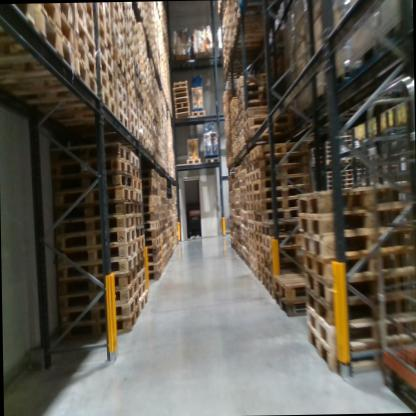pallet: (304, 303, 416, 359), (304, 319, 409, 378), (0, 6, 80, 80), (292, 175, 410, 222), (299, 219, 415, 264), (302, 264, 416, 309), (300, 239, 416, 283), (301, 279, 416, 321), (1, 55, 99, 103), (296, 208, 414, 233), (42, 87, 116, 123), (62, 281, 138, 313), (48, 186, 133, 210), (58, 268, 139, 292), (60, 254, 140, 278), (53, 214, 135, 237), (50, 140, 131, 163), (61, 309, 140, 332), (48, 154, 131, 174), (58, 300, 141, 320), (59, 240, 137, 261), (276, 264, 316, 303), (33, 6, 74, 43), (51, 169, 133, 187), (54, 225, 136, 243), (252, 148, 312, 169), (252, 170, 310, 190), (275, 292, 319, 318), (241, 110, 293, 132), (52, 202, 134, 215), (0, 6, 39, 33), (249, 163, 310, 180), (241, 102, 288, 124), (249, 142, 312, 158), (240, 121, 295, 137), (74, 22, 96, 61), (77, 39, 98, 79), (261, 217, 303, 237), (237, 89, 270, 113), (236, 79, 267, 104), (261, 257, 301, 276), (235, 72, 268, 95), (262, 242, 308, 258), (75, 6, 94, 42), (254, 199, 298, 214), (52, 2, 78, 26), (96, 67, 115, 98), (261, 234, 308, 246), (96, 49, 113, 82), (254, 209, 303, 220), (110, 75, 129, 103), (98, 22, 113, 57), (94, 10, 112, 39), (98, 38, 113, 72), (111, 45, 126, 78), (252, 188, 298, 198), (112, 21, 125, 54), (113, 106, 129, 132), (114, 62, 126, 90), (115, 89, 126, 118), (77, 3, 94, 21), (327, 135, 355, 145), (129, 181, 143, 201), (134, 234, 147, 255), (128, 120, 139, 144), (125, 73, 138, 93), (260, 283, 276, 298), (128, 107, 140, 127), (97, 4, 111, 21), (141, 174, 158, 188), (346, 164, 369, 174), (140, 219, 159, 231), (145, 250, 162, 263), (138, 279, 150, 297), (139, 291, 149, 312), (146, 235, 161, 249), (146, 268, 162, 281), (143, 212, 160, 224), (128, 98, 137, 120), (133, 205, 145, 221), (136, 133, 148, 149), (141, 193, 158, 204), (141, 183, 157, 194), (144, 227, 160, 238), (327, 168, 348, 176), (127, 83, 135, 104), (146, 263, 161, 274), (132, 150, 139, 173), (145, 246, 161, 256), (133, 229, 146, 241), (174, 100, 189, 110), (185, 157, 201, 166), (138, 121, 147, 137), (205, 155, 219, 165), (172, 80, 189, 88), (134, 213, 142, 230), (190, 109, 205, 118), (257, 270, 267, 283), (142, 204, 158, 212), (173, 86, 188, 94), (134, 251, 146, 261), (133, 176, 143, 188), (173, 111, 190, 118), (174, 105, 191, 112), (249, 266, 257, 280), (255, 221, 266, 231), (247, 208, 256, 220), (140, 267, 146, 285), (139, 261, 148, 273), (173, 92, 188, 99), (247, 228, 255, 241), (248, 237, 256, 250), (248, 248, 256, 260), (131, 166, 137, 182), (174, 98, 189, 104), (247, 220, 255, 231), (249, 256, 256, 268), (247, 199, 256, 208), (265, 266, 270, 282), (256, 260, 264, 270), (256, 242, 264, 252), (245, 153, 253, 163), (257, 251, 263, 264), (256, 233, 263, 243), (245, 163, 251, 174), (245, 183, 252, 192), (245, 174, 251, 183), (247, 192, 252, 199)
